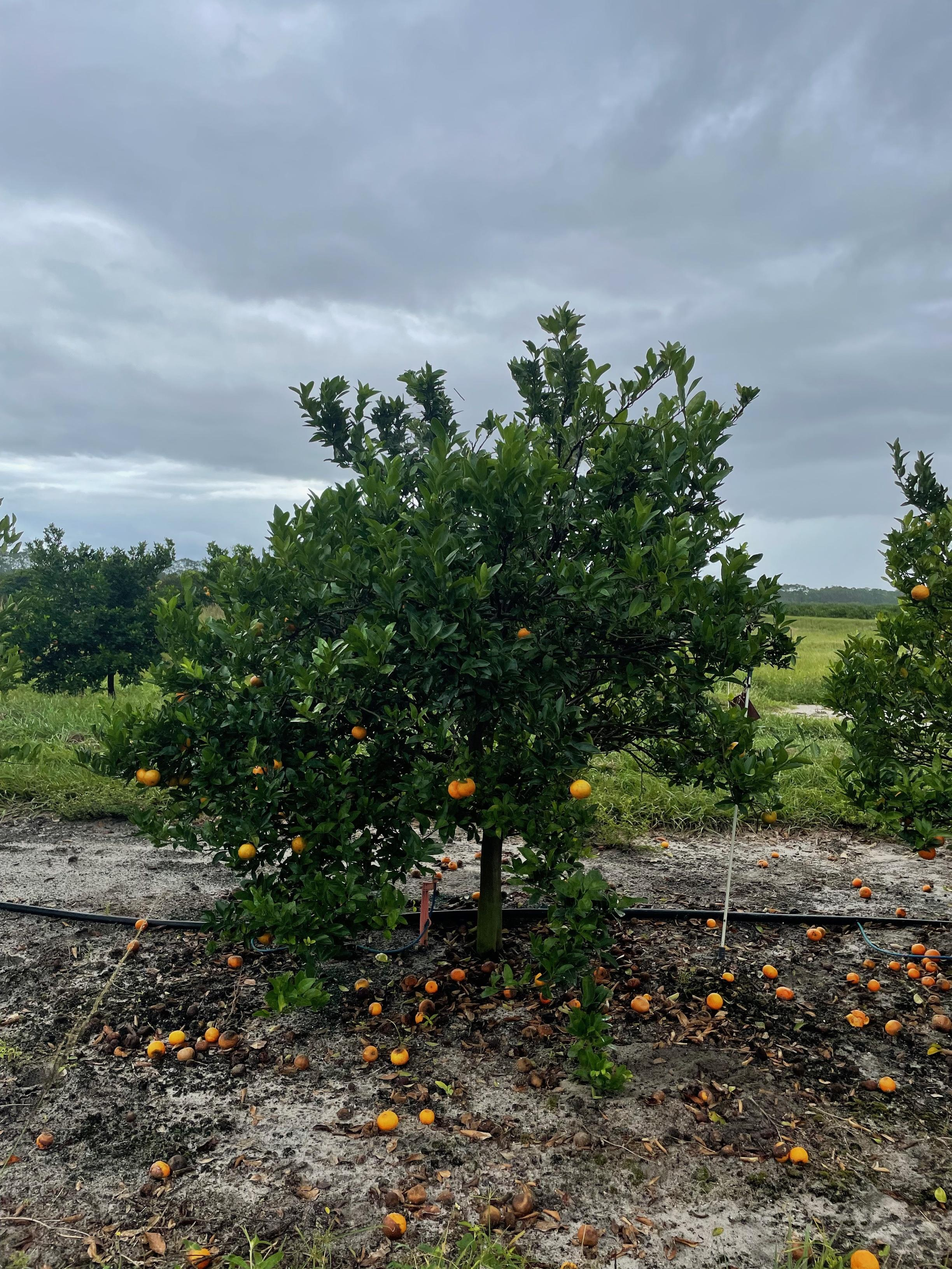fruit_on_ground: (567, 776, 593, 801), (724, 739, 748, 762), (908, 581, 932, 603), (514, 624, 537, 646), (446, 778, 468, 801), (236, 840, 258, 862), (288, 834, 310, 855), (456, 776, 477, 798), (142, 767, 162, 789), (248, 618, 268, 638), (349, 722, 369, 742), (254, 929, 276, 947), (916, 844, 938, 861), (175, 687, 194, 706), (532, 971, 551, 989), (250, 761, 269, 779), (176, 771, 194, 789), (282, 615, 300, 633), (163, 770, 180, 789), (760, 808, 779, 825), (134, 767, 151, 786), (248, 673, 266, 690), (929, 833, 946, 848)
fruit_on_tree: (380, 1211, 409, 1239), (848, 1246, 880, 1268), (184, 1246, 215, 1268), (573, 1222, 601, 1246), (509, 1188, 535, 1213), (478, 1203, 504, 1228), (789, 1238, 814, 1262), (375, 1108, 399, 1131), (147, 1158, 172, 1180), (771, 1141, 793, 1164), (33, 1129, 56, 1150), (788, 1144, 811, 1165), (845, 1008, 869, 1028), (388, 1045, 410, 1066), (144, 1039, 167, 1059), (930, 1013, 952, 1033), (629, 995, 651, 1014), (406, 1185, 428, 1203), (704, 991, 724, 1010), (878, 1074, 898, 1093), (218, 1031, 239, 1049), (417, 1107, 436, 1126), (590, 964, 611, 981), (292, 1052, 310, 1071), (361, 1045, 380, 1063), (417, 998, 437, 1015), (352, 975, 372, 992), (175, 1045, 195, 1062), (775, 984, 796, 1000), (697, 1086, 715, 1104), (203, 1025, 222, 1042), (884, 1018, 903, 1035), (167, 1028, 186, 1045), (448, 966, 468, 982), (528, 1071, 546, 1088), (514, 1056, 534, 1071), (402, 973, 420, 989), (226, 953, 244, 969), (761, 963, 779, 979), (922, 948, 942, 962), (625, 975, 642, 991), (367, 1000, 384, 1016), (126, 937, 142, 953), (422, 979, 439, 994), (193, 1038, 210, 1053), (133, 916, 150, 931), (805, 928, 823, 942), (538, 991, 554, 1006), (921, 975, 938, 989), (858, 884, 873, 899), (479, 960, 495, 974), (567, 996, 583, 1010), (866, 977, 882, 991), (720, 970, 736, 984), (909, 941, 925, 955), (501, 985, 516, 999), (413, 1010, 427, 1024), (938, 977, 952, 991), (399, 1012, 414, 1025), (845, 970, 860, 983), (887, 958, 901, 971), (906, 967, 921, 979), (924, 961, 939, 973), (470, 887, 482, 901), (861, 957, 875, 969), (894, 905, 908, 917), (705, 916, 719, 928), (446, 860, 459, 872), (850, 876, 863, 888), (814, 926, 828, 937), (432, 868, 444, 880), (409, 867, 422, 878), (920, 882, 933, 893), (756, 858, 769, 869), (769, 848, 781, 859), (906, 961, 919, 970), (440, 855, 452, 864), (659, 840, 670, 849), (921, 956, 932, 965), (473, 851, 482, 860)
